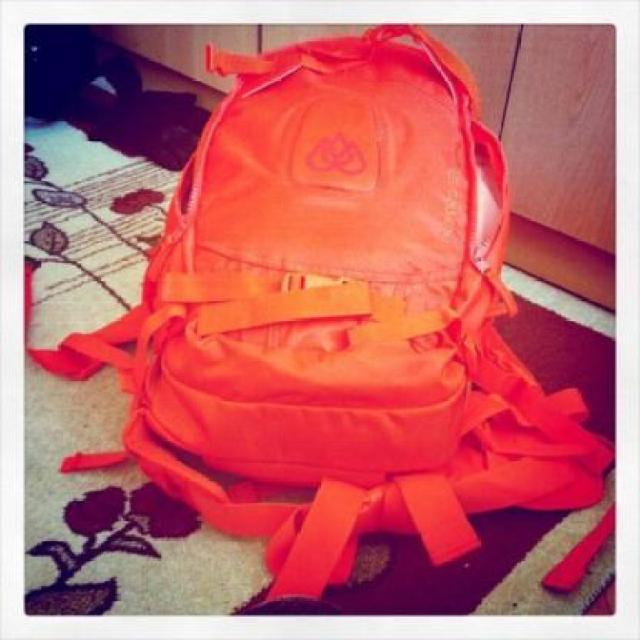backpack: (112, 28, 611, 554)
